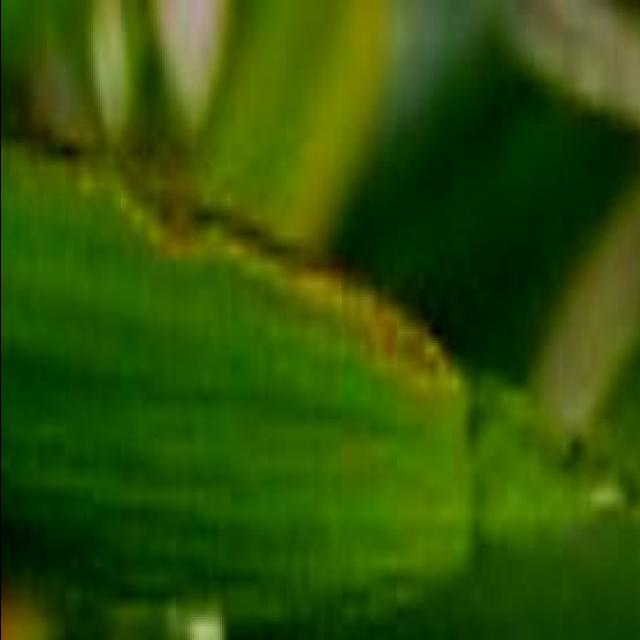Bacterial_Leaf_Blight: (21, 92, 640, 541)
